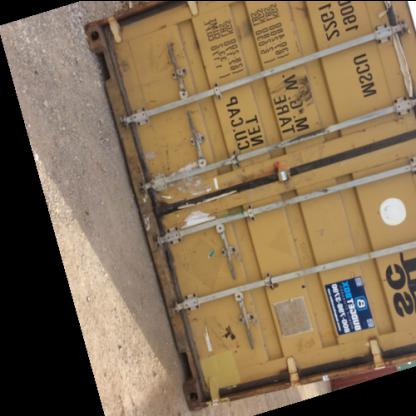Damage: (146, 160, 238, 249), (104, 26, 192, 86), (178, 306, 249, 358), (268, 69, 331, 111), (289, 215, 335, 269), (326, 341, 400, 371), (380, 4, 412, 36)
